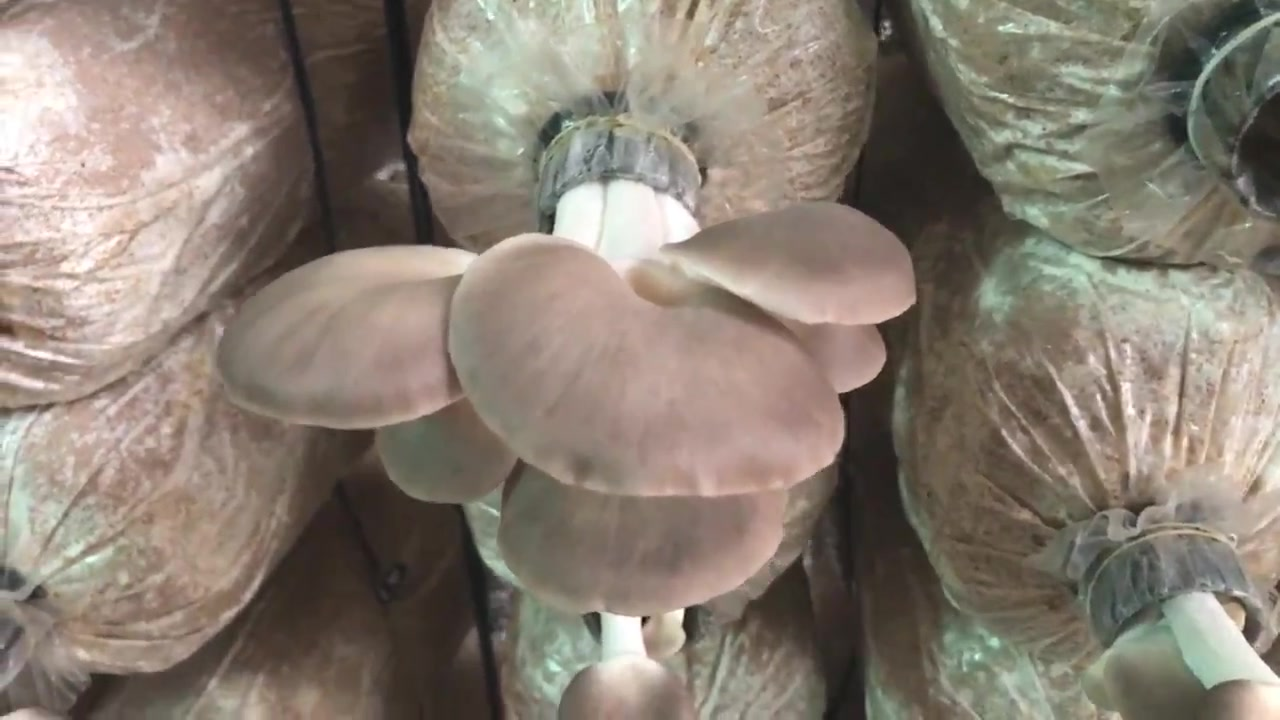nam: (224, 118, 917, 617), (1084, 520, 1280, 718), (562, 609, 698, 720)
